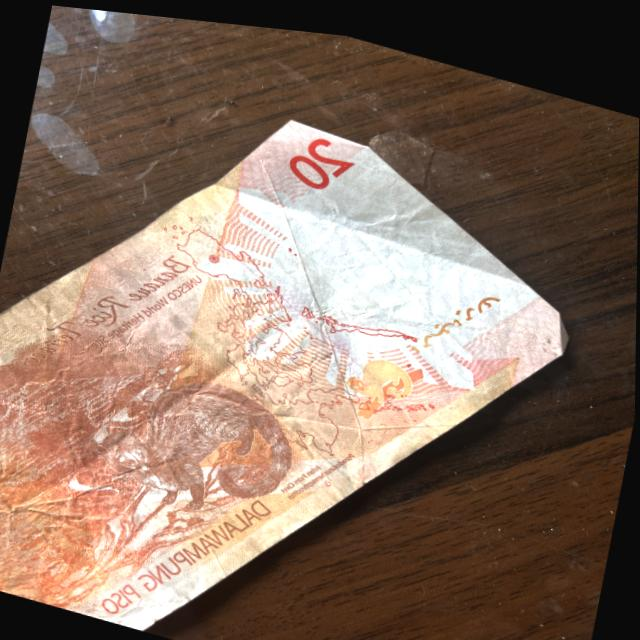20_civet: (92, 350, 310, 544)
20_civet_watermark: (336, 335, 423, 424)
